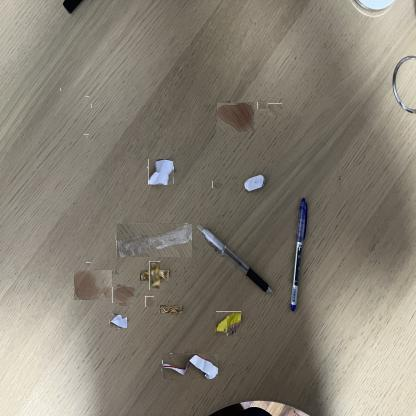dirty: (116, 223, 192, 257), (162, 353, 218, 379), (215, 311, 241, 336), (148, 160, 174, 185), (144, 266, 165, 285), (110, 314, 127, 328), (160, 306, 182, 314)
liquid: (216, 102, 254, 132), (74, 270, 112, 300), (114, 286, 134, 305), (269, 103, 282, 117), (145, 296, 154, 307), (213, 180, 223, 189), (258, 101, 267, 110), (114, 268, 119, 274), (86, 262, 91, 266)
mark: (84, 134, 89, 140), (6, 94, 10, 100), (85, 96, 89, 101), (92, 104, 96, 109), (60, 88, 63, 92)
